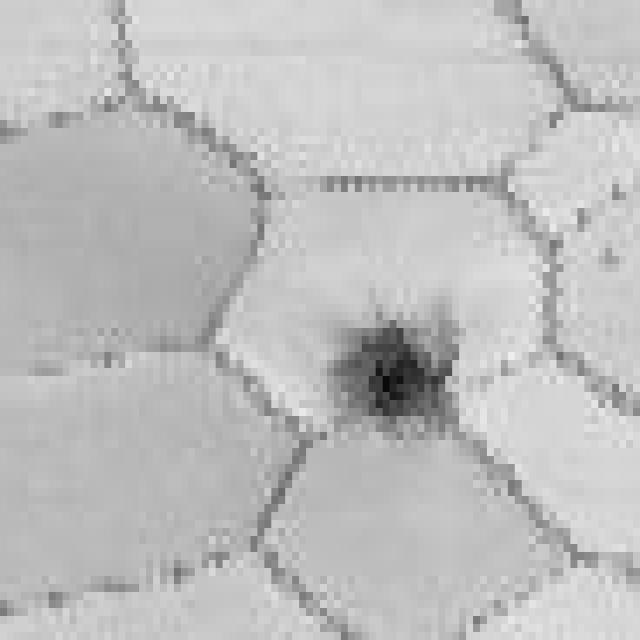good_void: (321, 306, 466, 454)
